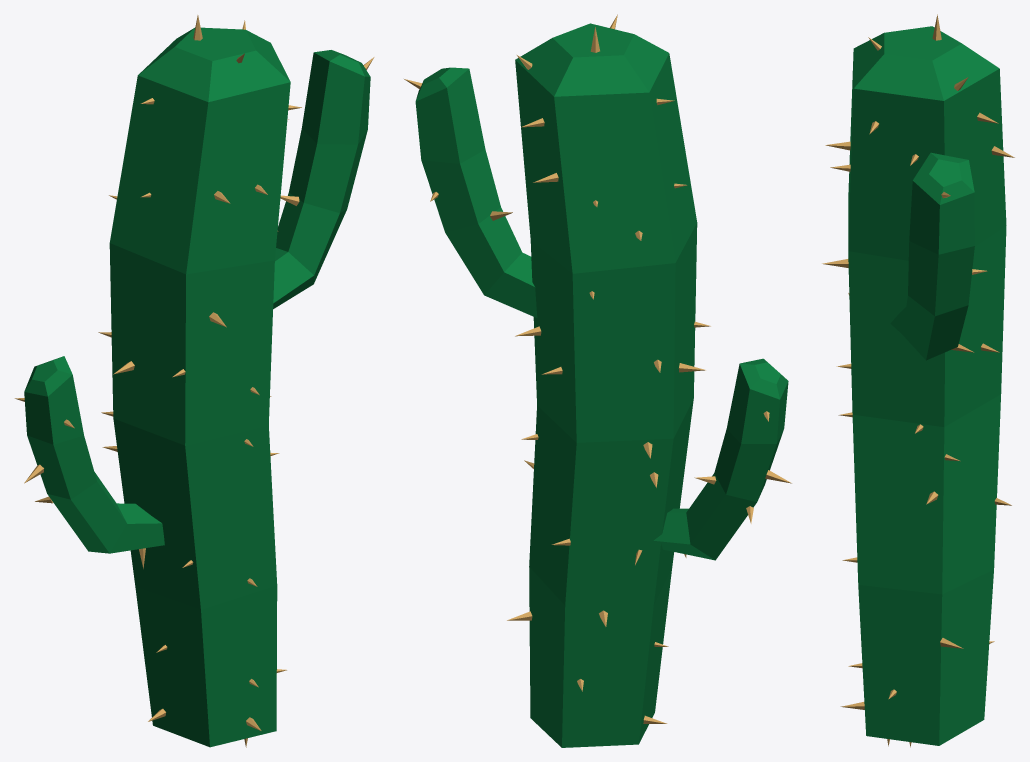
File: Kaktus1_Einzelobjekt.fbx
The picture shows the model from 3 angles, left to right: view 1: azimuth 30°, elevation 25°; view 2: azimuth 150°, elevation 25°; view 3: azimuth 270°, elevation 25°; orthographic projection.
Parts seen in each view (by area): view 1: Cylinder.011; view 2: Cylinder.011; view 3: Cylinder.011.
Part boxes in pixels (x1,y1,x2,y2): Cylinder.011: (14, 15, 374, 747); Cylinder.011: (404, 14, 791, 747); Cylinder.011: (822, 14, 1014, 747).
Size of the model in its own units: 98.45 by 184 by 44.89.
